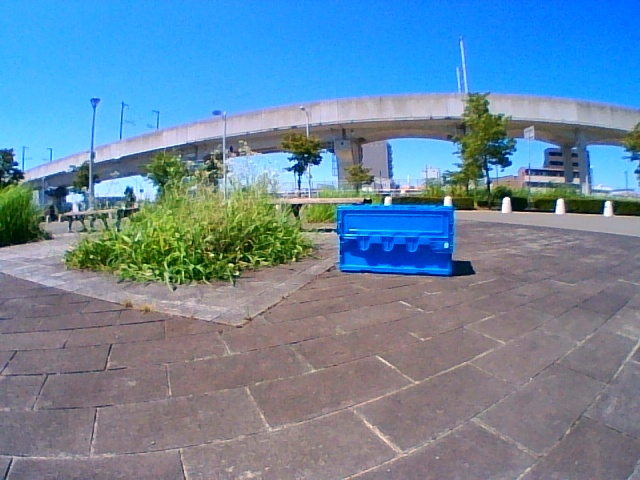blue_box: (339, 206, 452, 274)
